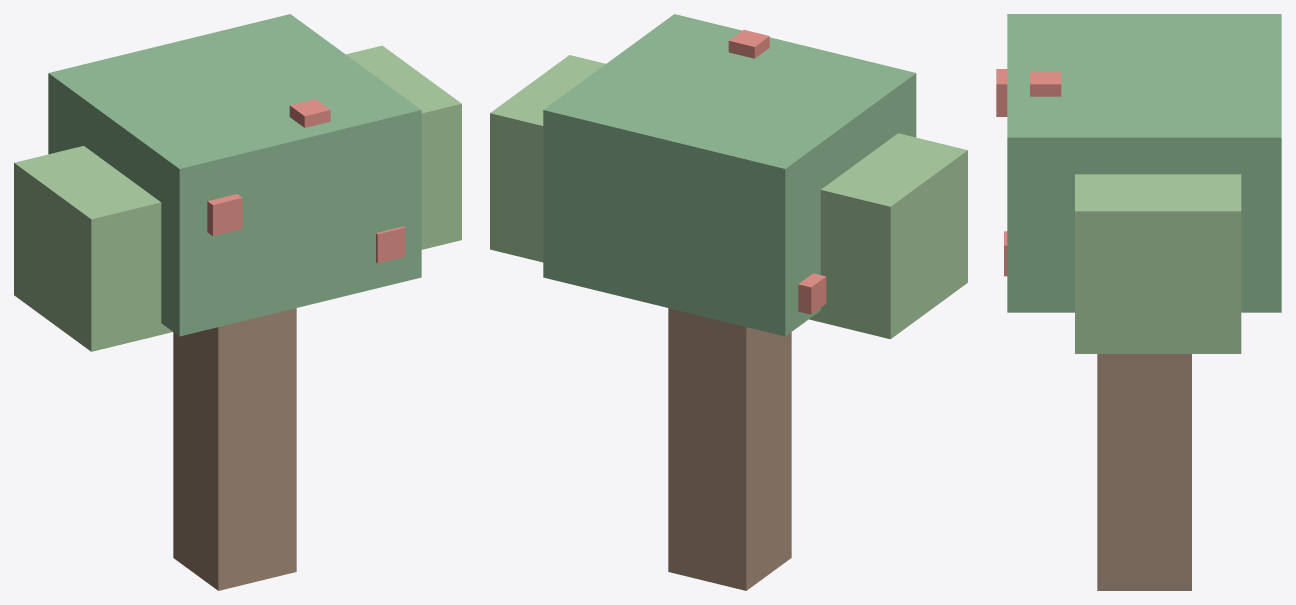
The model's file is tree-apple.glb.
3 renders of one model, left to right at view 1: azimuth 30°, elevation 25°; view 2: azimuth 150°, elevation 25°; view 3: azimuth 270°, elevation 25°, orthographic. The views are drawn at different scales.
Visible parts, largest first — view 1: apple-crown-center, apple-trunk, apple-crown-left, apple-crown-right, apple-1, apple-2, apple-3; view 2: apple-crown-center, apple-trunk, apple-crown-left, apple-crown-right, apple-4, apple-3; view 3: apple-crown-center, apple-crown-right, apple-trunk, apple-3, apple-1.
Part boxes in pixels (x1=…): apple-crown-center: x1=48, y1=14, x2=421, y2=336; apple-trunk: x1=173, y1=308, x2=296, y2=590; apple-crown-left: x1=14, y1=146, x2=172, y2=351; apple-crown-right: x1=346, y1=45, x2=461, y2=249; apple-1: x1=207, y1=194, x2=242, y2=235; apple-2: x1=376, y1=226, x2=405, y2=263; apple-3: x1=289, y1=99, x2=330, y2=127; apple-crown-center: x1=543, y1=14, x2=916, y2=336; apple-trunk: x1=668, y1=308, x2=791, y2=590; apple-crown-left: x1=809, y1=133, x2=967, y2=339; apple-crown-right: x1=490, y1=55, x2=605, y2=262; apple-4: x1=798, y1=273, x2=826, y2=314; apple-3: x1=728, y1=30, x2=769, y2=58; apple-crown-center: x1=1007, y1=14, x2=1281, y2=312; apple-crown-right: x1=1075, y1=174, x2=1241, y2=353; apple-trunk: x1=1097, y1=354, x2=1191, y2=590; apple-3: x1=1030, y1=71, x2=1061, y2=96; apple-1: x1=996, y1=69, x2=1007, y2=116.
Bounding box in the file's own units: 2.06 × 2.49 × 1.27.
